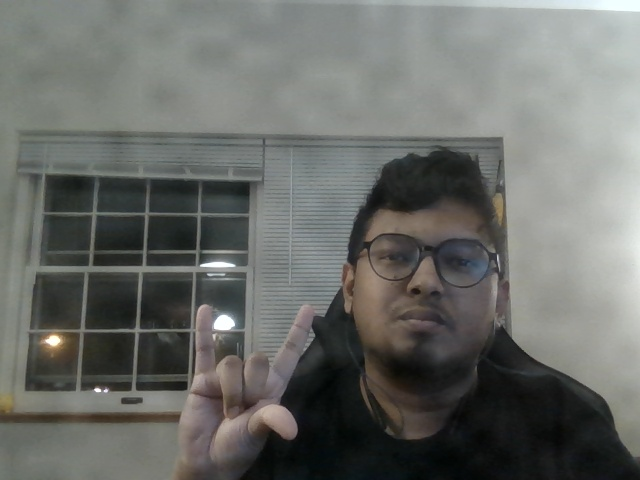ilikeyou: (170, 288, 327, 474)
